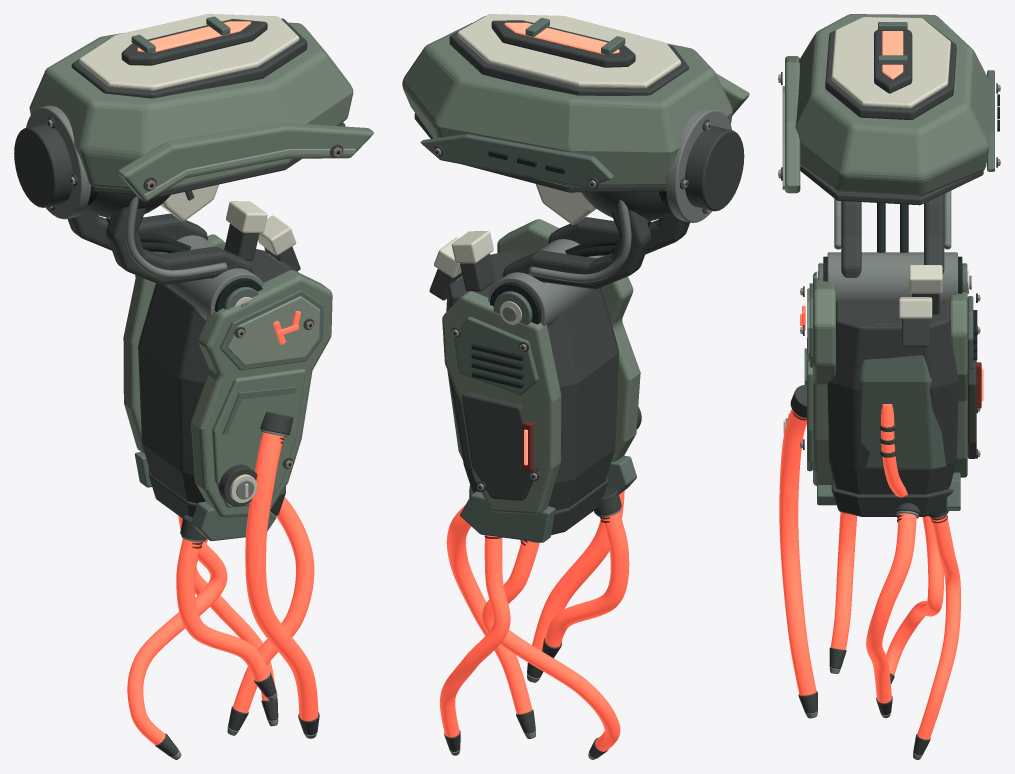
File: warden-oversized-tendril-arm-v1.glb
The picture shows the model from 3 angles, left to right: view 1: azimuth 30°, elevation 25°; view 2: azimuth 150°, elevation 25°; view 3: azimuth 270°, elevation 25°; orthographic projection. The views are drawn at different scales.
Visible parts, largest first — view 1: Shoulder | broad asymmetrical primary shell, Gauntlet | tapered graphite inner chassis, Gauntlet | main forward angular sage plate, Shoulder | forward overlapping visor, Shoulder | ivory crown inlay, TENDRIL 01 | long forward ribbon, Gauntlet | lower tapered shield, Attachment | torso insert sleeve, Gauntlet | upper inset sage face, TENDRIL 04 | inward lower hook, Elbow | visible curved front exoframe, TENDRIL 03 | outboard open arc (+22 smaller); view 2: Shoulder | broad asymmetrical primary shell, Gauntlet | tapered graphite inner chassis, Gauntlet | broad rear removable sage panel, Shoulder | ivory crown inlay, Gauntlet | rear lower spine panel, Shoulder | rear service panel, Gauntlet | main forward angular sage plate, TENDRIL 04 | inward lower hook, Attachment | torso insert sleeve, Elbow | visible curved rear exoframe, TENDRIL 05 | trailing S tendril, Gauntlet | rear service inset (+21 smaller); view 3: Shoulder | broad asymmetrical primary shell, Gauntlet | tapered graphite inner chassis, Gauntlet | outboard layered armour cheek, Shoulder | ivory crown inlay, TENDRIL 01 | long forward ribbon, Elbow | lower axle, Gauntlet | main forward angular sage plate, TENDRIL 05 | trailing S tendril, TENDRIL 03 | outboard open arc, Gauntlet | broad rear removable sage panel, TENDRIL 04 | inward lower hook, Hand | compact five-port manifold (+22 smaller).
Boxes of the visible parts, x1,y1,x2,y2 form: Shoulder | broad asymmetrical primary shell: (29, 22, 353, 190); Gauntlet | tapered graphite inner chassis: (138, 249, 298, 503); Gauntlet | main forward angular sage plate: (191, 270, 332, 517); Shoulder | forward overlapping visor: (117, 123, 373, 201); Shoulder | ivory crown inlay: (79, 14, 299, 90); TENDRIL 01 | long forward ribbon: (245, 432, 318, 720); Gauntlet | lower tapered shield: (212, 368, 305, 507); Attachment | torso insert sleeve: (14, 123, 72, 207); Gauntlet | upper inset sage face: (227, 296, 319, 365); TENDRIL 04 | inward lower hook: (127, 515, 227, 745); Elbow | visible curved front exoframe: (106, 207, 252, 285); TENDRIL 03 | outboard open arc: (233, 497, 314, 712); Shoulder | broad asymmetrical primary shell: (402, 23, 732, 187); Gauntlet | tapered graphite inner chassis: (444, 250, 618, 510); Gauntlet | broad rear removable sage panel: (442, 291, 561, 514); Shoulder | ivory crown inlay: (457, 14, 681, 88); Gauntlet | rear lower spine panel: (462, 391, 538, 500); Shoulder | rear service panel: (420, 134, 614, 187); Gauntlet | main forward angular sage plate: (497, 219, 640, 461); TENDRIL 04 | inward lower hook: (482, 540, 620, 751); Attachment | torso insert sleeve: (685, 126, 744, 211); Elbow | visible curved rear exoframe: (502, 210, 651, 289); TENDRIL 05 | trailing S tendril: (440, 535, 510, 737); Gauntlet | rear service inset: (454, 316, 538, 394); Shoulder | broad asymmetrical primary shell: (795, 14, 989, 196); Gauntlet | tapered graphite inner chassis: (827, 301, 958, 494); Gauntlet | outboard layered armour cheek: (858, 324, 946, 469); Shoulder | ivory crown inlay: (831, 17, 950, 108); TENDRIL 01 | long forward ribbon: (779, 409, 816, 695); Elbow | lower axle: (827, 252, 957, 301); Gauntlet | main forward angular sage plate: (813, 272, 835, 485); TENDRIL 05 | trailing S tendril: (917, 516, 960, 739); TENDRIL 03 | outboard open arc: (866, 513, 916, 703); Gauntlet | broad rear removable sage panel: (949, 282, 967, 477); TENDRIL 04 | inward lower hook: (886, 516, 943, 675); Hand | compact five-port manifold: (831, 480, 953, 516).
Bounding box in the file's own units: 0.7304 × 1.68 × 0.5042.
